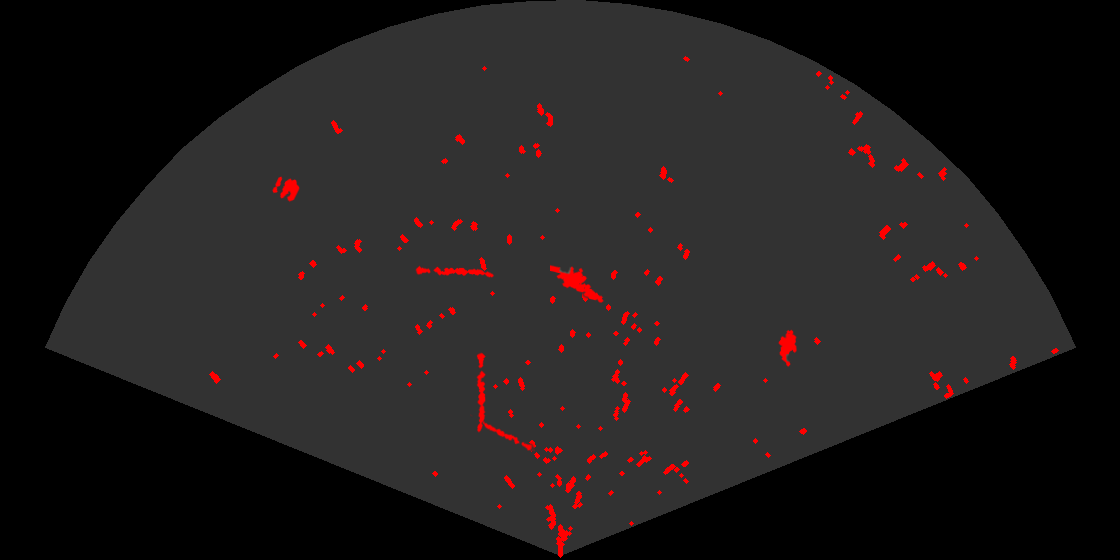AUV: (777, 328, 798, 369)
ball: (271, 175, 301, 204)
chain: (470, 414, 535, 453), (415, 264, 495, 279), (475, 352, 487, 433)
frogman: (550, 263, 606, 304)
